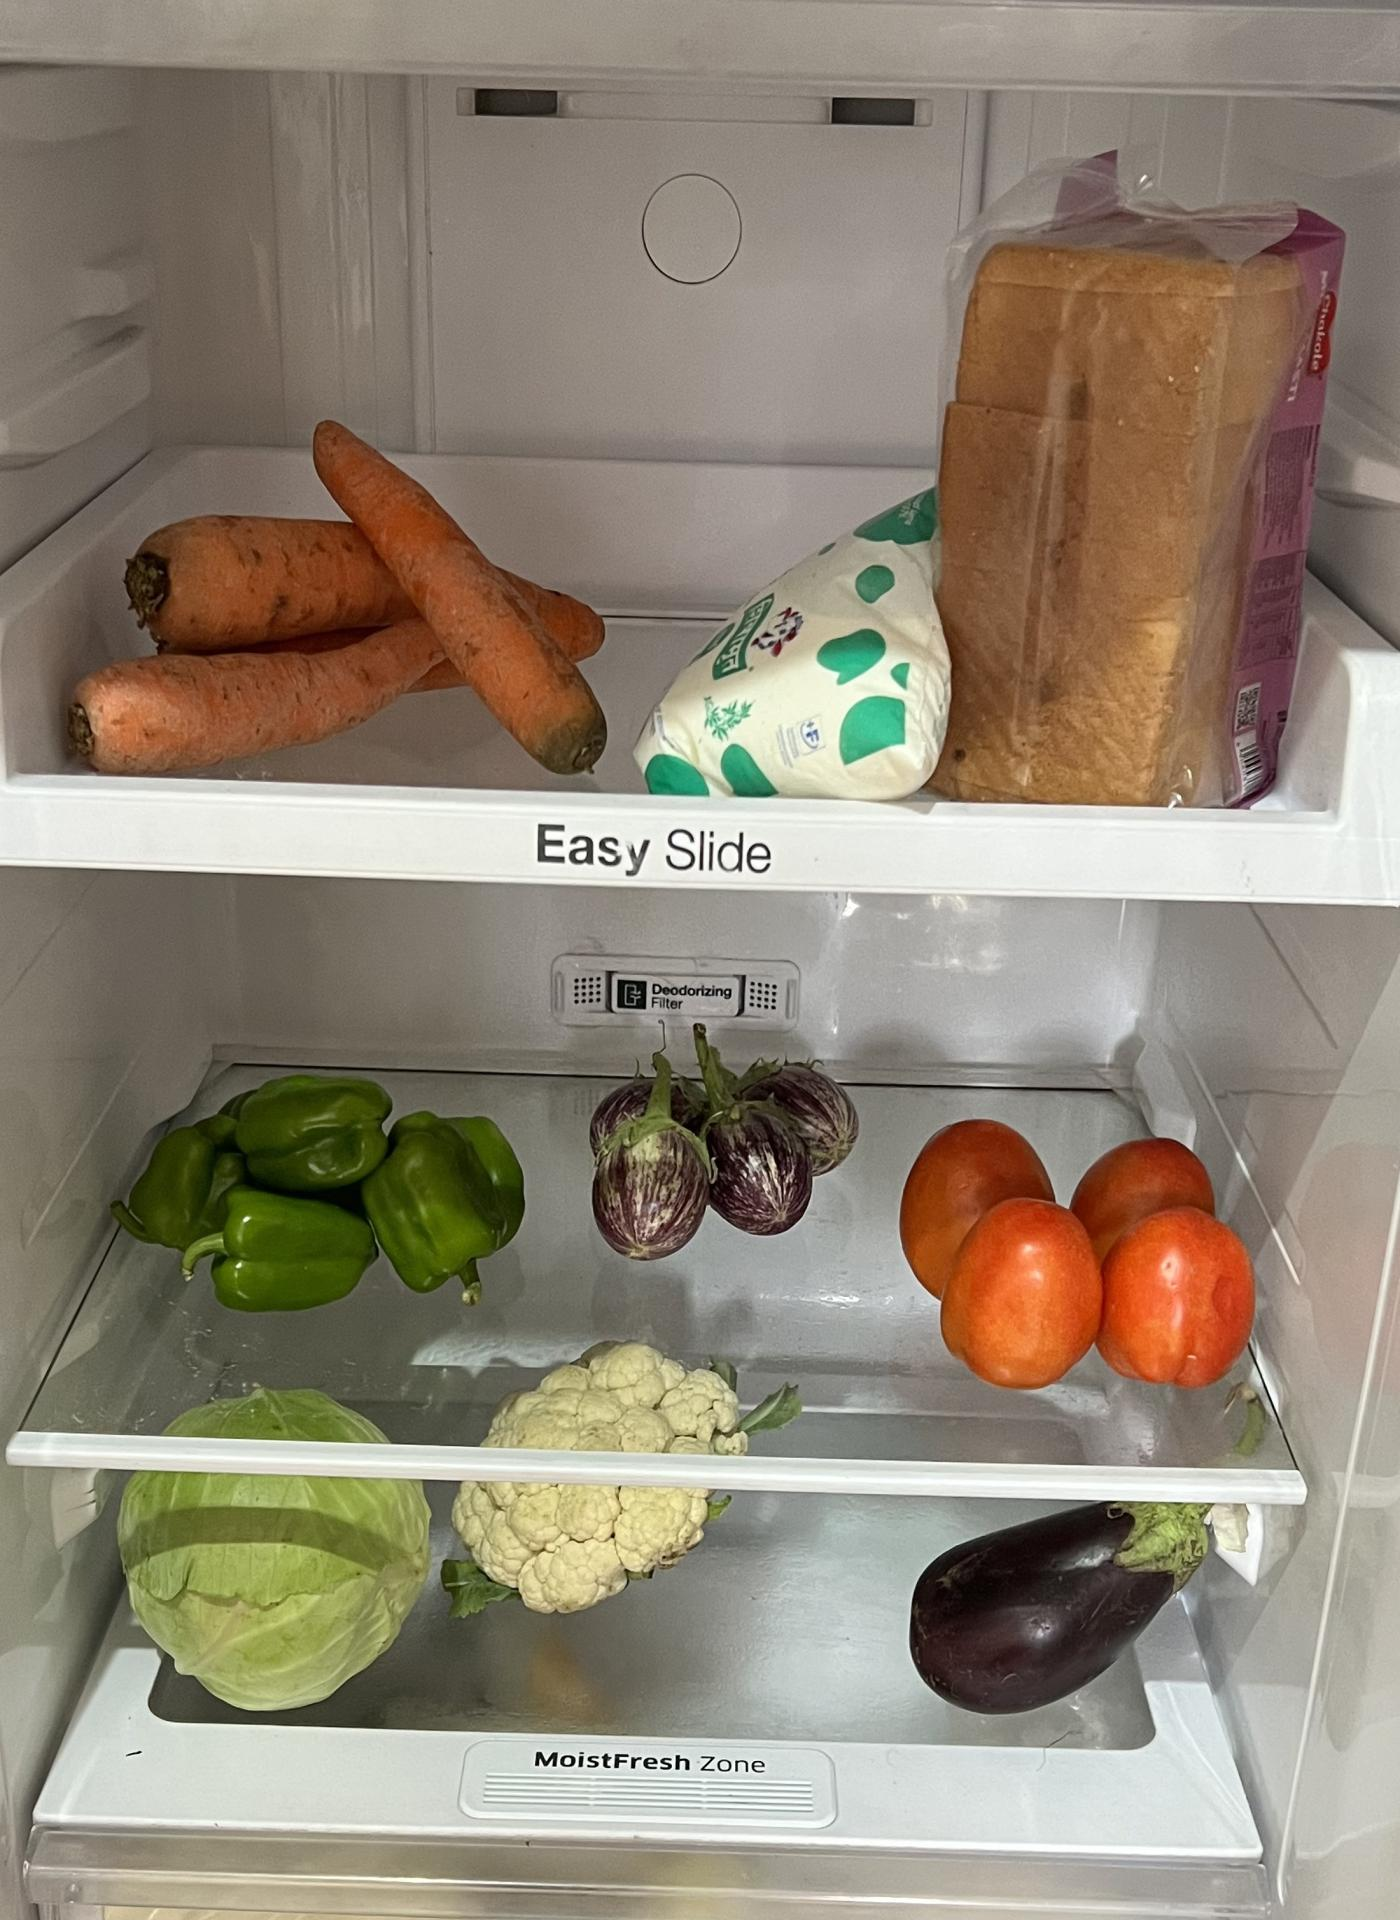bread: (945, 177, 1343, 809)
cabbage: (116, 1379, 420, 1701)
capsicum: (127, 1069, 522, 1301)
carrots: (78, 476, 604, 777)
cauliflower: (462, 1346, 744, 1589)
milk: (631, 511, 941, 806)
tomato: (899, 1109, 1252, 1388)
